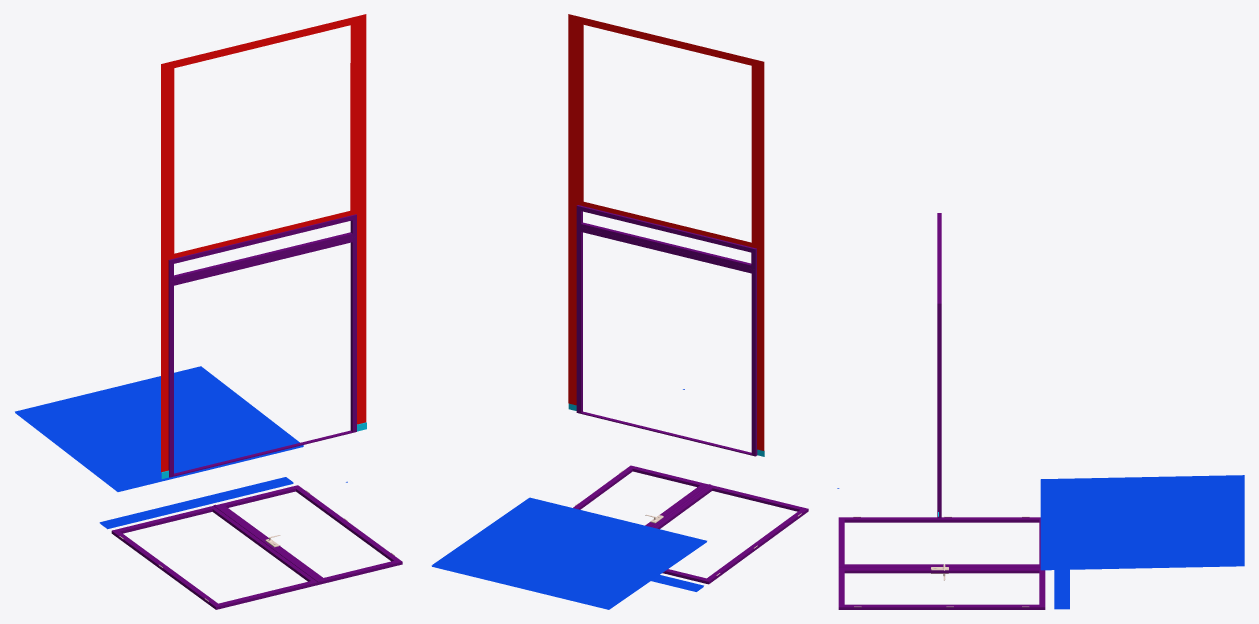
File: SM_PORTe.fbx
The picture shows the model from 3 angles, left to right: view 1: azimuth 30°, elevation 25°; view 2: azimuth 150°, elevation 25°; view 3: azimuth 270°, elevation 25°; orthographic projection. The views are drawn at different scales.
Visible parts, largest first — view 1: SM_Door_Frame_C, SM_Glass_C.002, SM_Door_L_C, SM_Door_R_C, SM_Glass_C.001; view 2: SM_Door_Frame_C, SM_Glass_C.002, SM_Door_L_C, SM_Door_R_C; view 3: SM_Glass_C.002, SM_Door_R_C, SM_Door_L_C, SM_Door_Frame_C, SM_Glass_C.001.
Part boxes in pixels (left/top/right/bottom): SM_Door_Frame_C: left=161, top=14, right=366, bottom=478; SM_Glass_C.002: left=15, top=366, right=303, bottom=491; SM_Door_L_C: left=111, top=506, right=319, bottom=609; SM_Door_R_C: left=213, top=485, right=402, bottom=584; SM_Glass_C.001: left=99, top=477, right=293, bottom=529; SM_Door_Frame_C: left=568, top=14, right=764, bottom=456; SM_Glass_C.002: left=431, top=497, right=706, bottom=609; SM_Door_L_C: left=654, top=485, right=808, bottom=584; SM_Door_R_C: left=573, top=465, right=710, bottom=527; SM_Glass_C.002: left=1040, top=475, right=1244, bottom=570; SM_Door_R_C: left=838, top=564, right=1045, bottom=609; SM_Door_L_C: left=838, top=516, right=1040, bottom=565; SM_Door_Frame_C: left=937, top=213, right=941, bottom=518; SM_Glass_C.001: left=1054, top=569, right=1069, bottom=609.
Size of the model in its own units: 231 by 552 by 401.
